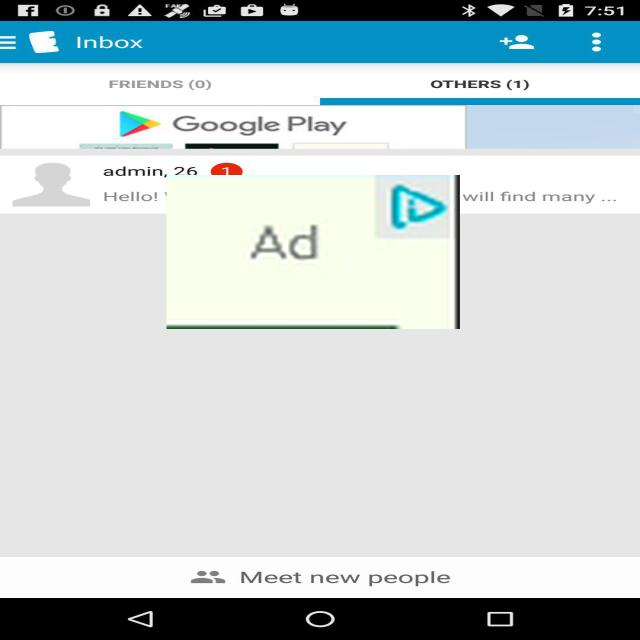sneaking: (166, 175, 460, 329)
